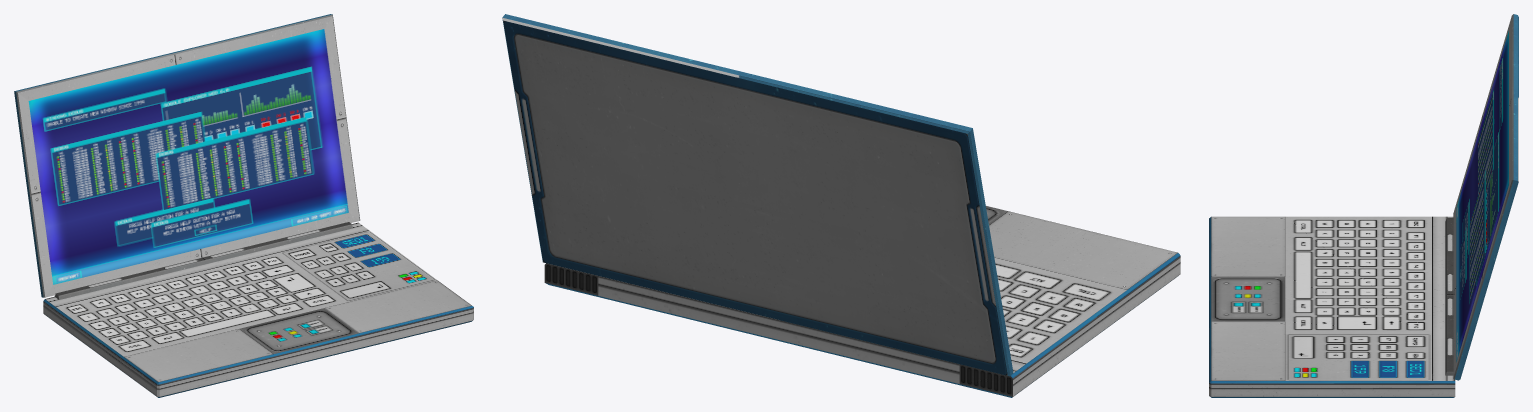
File: Laptop_Lab_01.FBX
The picture shows the model from 3 angles, left to right: view 1: azimuth 30°, elevation 25°; view 2: azimuth 150°, elevation 25°; view 3: azimuth 270°, elevation 25°; orthographic projection. The views are drawn at different scales.
Parts seen in each view (by area): view 1: Screen, Laptop_Lab_01, Laptop_Fold; view 2: Laptop_Fold, Laptop_Lab_01; view 3: Laptop_Lab_01, Screen, Laptop_Fold.
Part boxes in pixels (bbox=[...]): Screen: bbox=[28, 29, 348, 284]; Laptop_Lab_01: bbox=[43, 222, 473, 397]; Laptop_Fold: bbox=[14, 14, 360, 297]; Laptop_Fold: bbox=[502, 14, 1013, 376]; Laptop_Lab_01: bbox=[544, 206, 1180, 397]; Laptop_Lab_01: bbox=[1209, 216, 1455, 397]; Screen: bbox=[1456, 31, 1508, 362]; Laptop_Fold: bbox=[1453, 14, 1518, 380].
Size of the model in its own units: 22.84 by 14.03 by 18.
